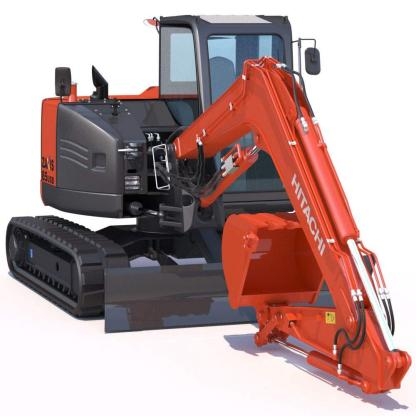excavator: (26, 5, 412, 406)
